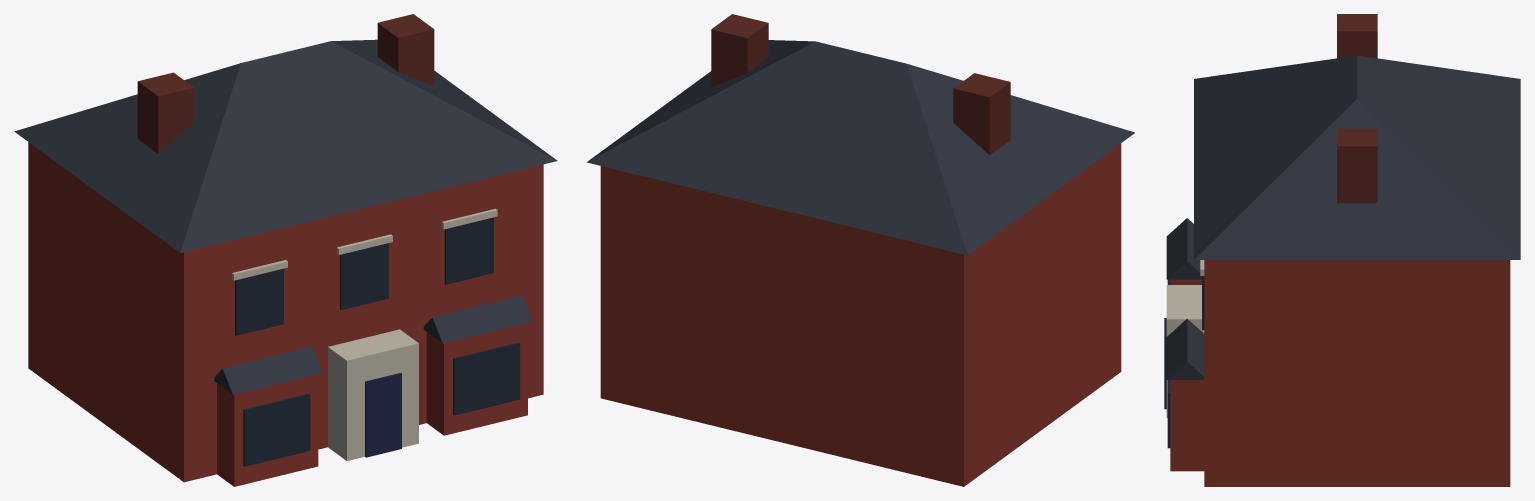
The model's file is building_westyork_s3_redbrick_detached.glb.
3 views of the same model, side by side, from view 1: azimuth 30°, elevation 25°; view 2: azimuth 150°, elevation 25°; view 3: azimuth 270°, elevation 25° (orthographic). The views are drawn at different scales.
Visible parts, largest first — view 1: building_westyork_s3_redbrick_detached; view 2: building_westyork_s3_redbrick_detached; view 3: building_westyork_s3_redbrick_detached.
Part boxes in pixels (bbox=[...]): building_westyork_s3_redbrick_detached: bbox=[14, 14, 557, 486]; building_westyork_s3_redbrick_detached: bbox=[586, 14, 1134, 486]; building_westyork_s3_redbrick_detached: bbox=[1164, 14, 1520, 486].
Bounding box in the file's own units: 12.6 × 10.5 × 10.47.
Materials: 1 (1 with a texture image).
